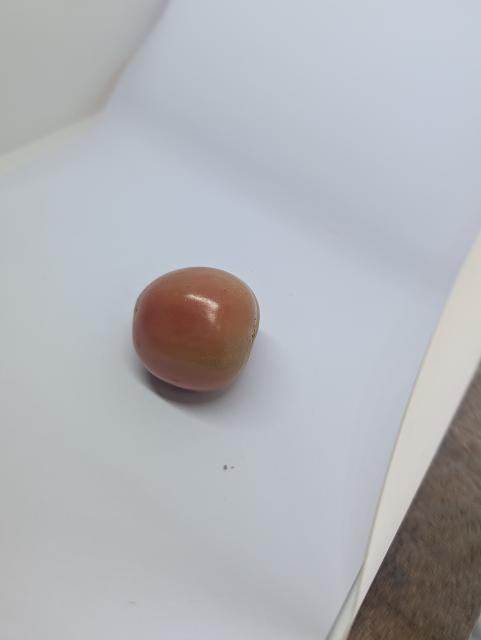turning: (128, 260, 271, 408)
